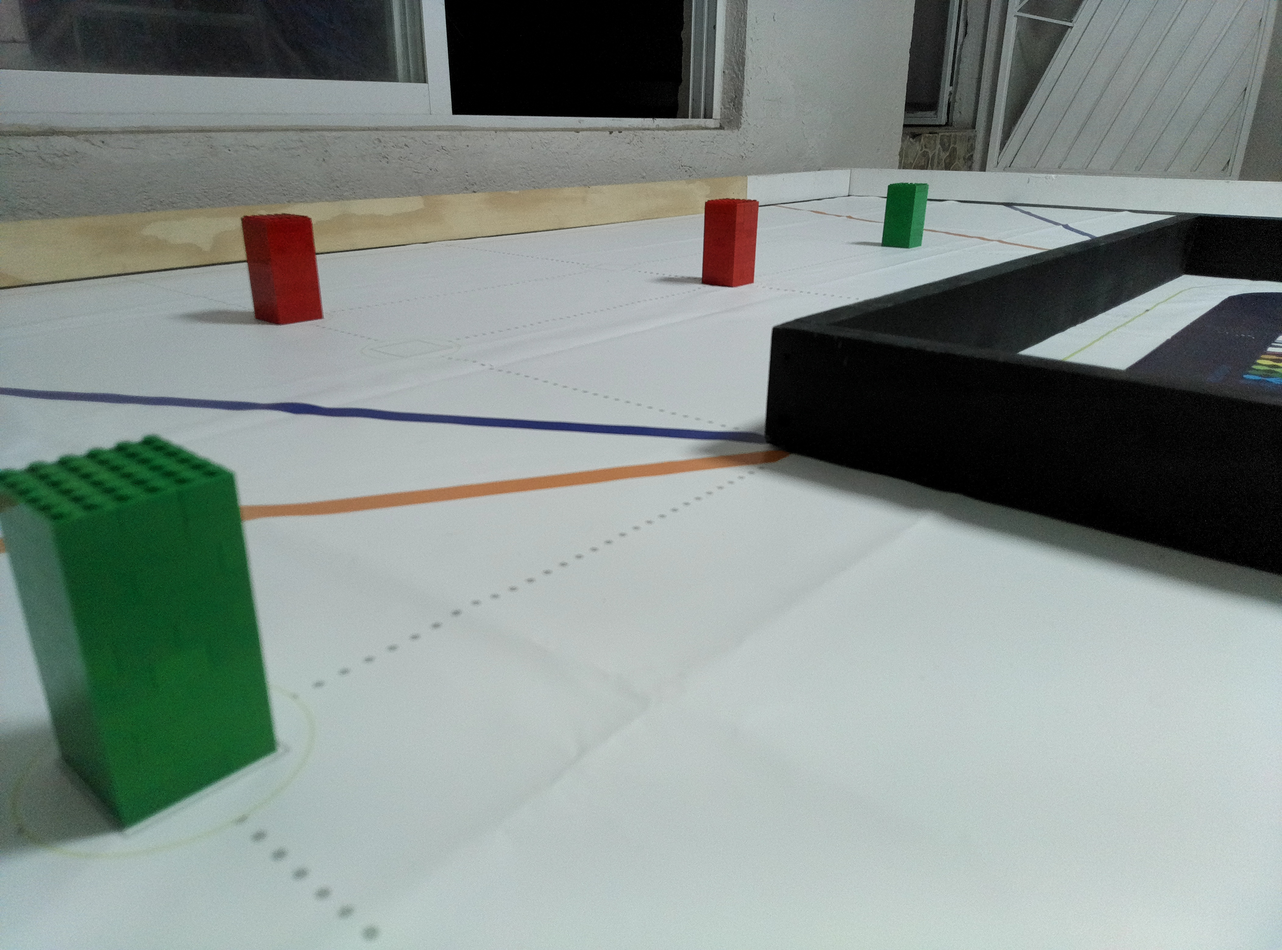greenbox: (0, 427, 287, 835), (880, 182, 930, 251)
redbox: (239, 212, 326, 327), (700, 197, 761, 289)
